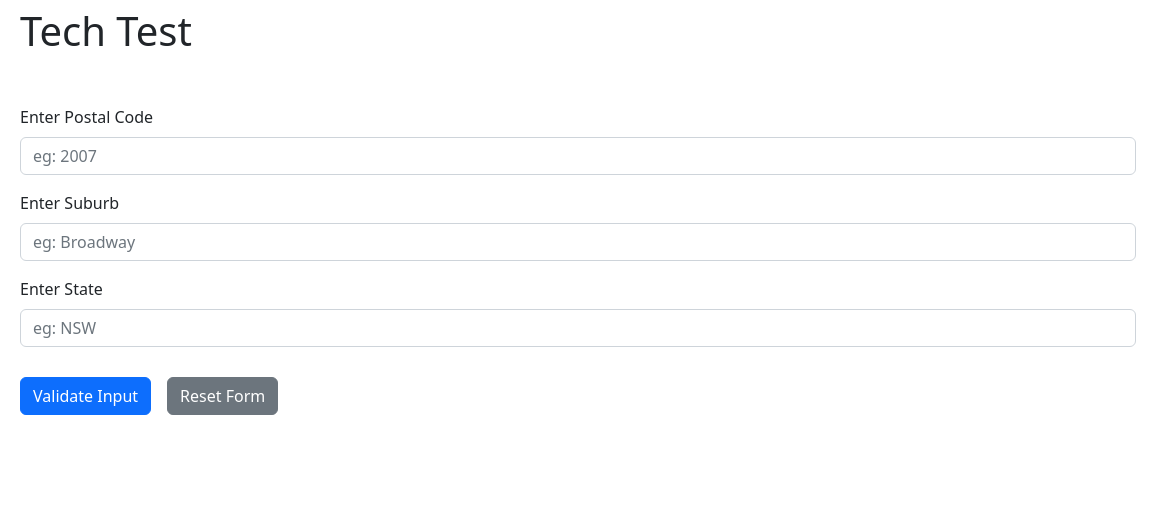
Test case: empty spec › Validate Empty Input Fields
The width and height of the screenshot is (1153, 511).
Click the button "Validate Input" at (86, 396), box [20, 377, 151, 415]
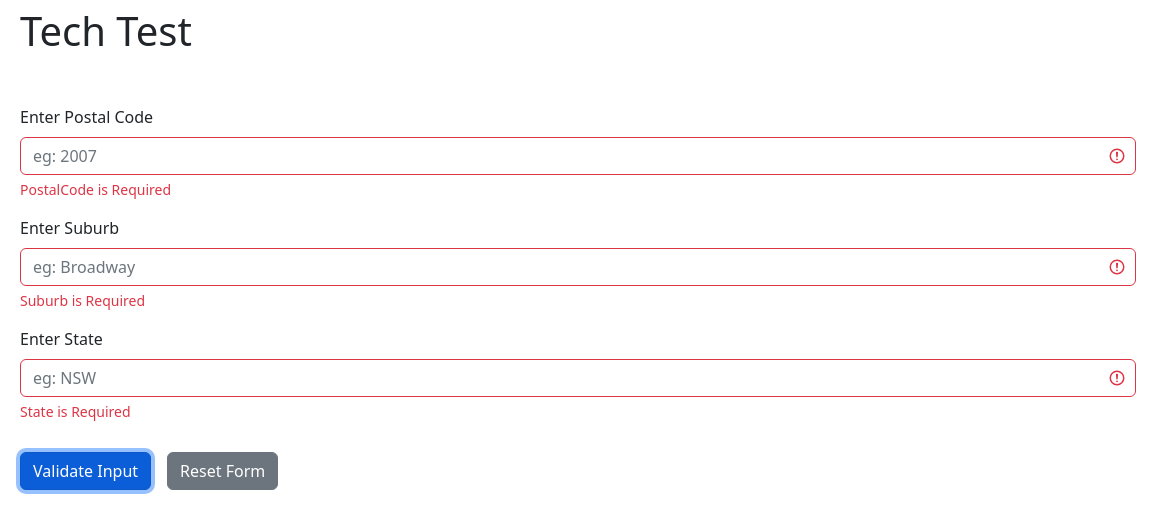
Expected: the text "PostalCode is Required" is shown, [20, 180, 171, 199]
Expected: the text "Suburb is Required" is shown, [20, 291, 145, 310]
Expected: the text "State is Required" is shown, [20, 402, 131, 421]
